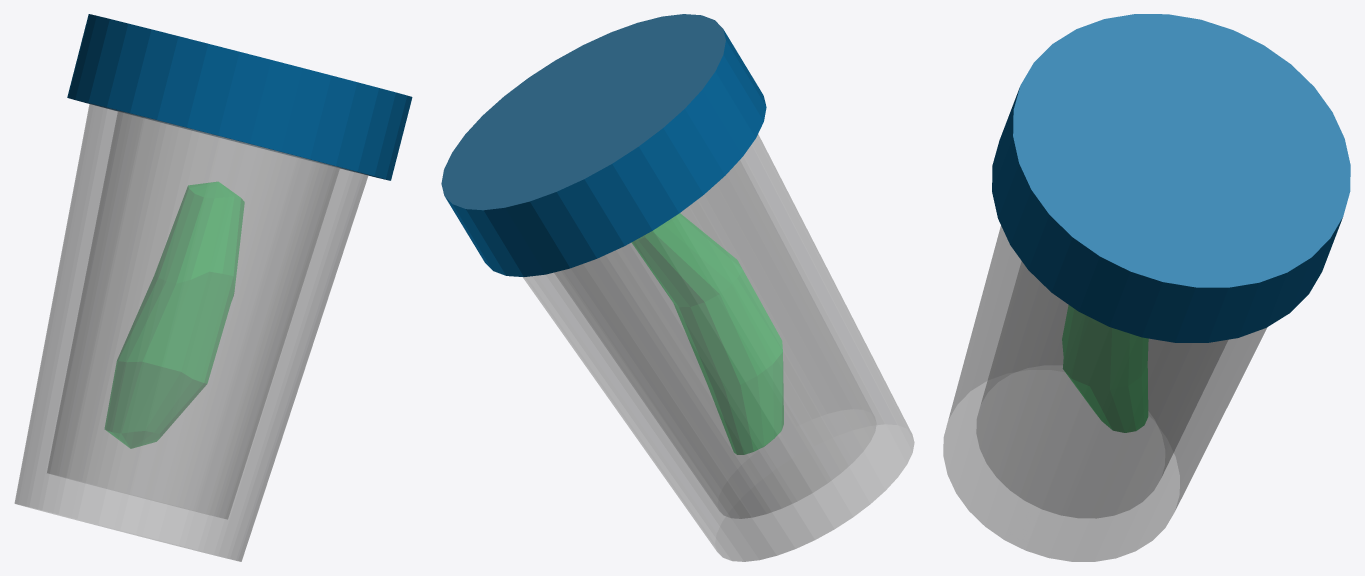
Rendered from space2.gltf.
The picture shows the model from 3 angles, left to right: view 1: azimuth 30°, elevation 25°; view 2: azimuth 150°, elevation 25°; view 3: azimuth 270°, elevation 25°; orthographic projection. The views are drawn at different scales.
Parts seen in each view (by area): view 1: can; view 2: can; view 3: can.
Boxes of the visible parts, box(x1,y1,x2,y2) form: can: box(14, 14, 412, 561); can: box(441, 14, 914, 561); can: box(943, 14, 1350, 561).
Size of what is drawn, in the model's own units: 0.7218 by 0.8804 by 0.6059.
2 materials, 1 textured.
